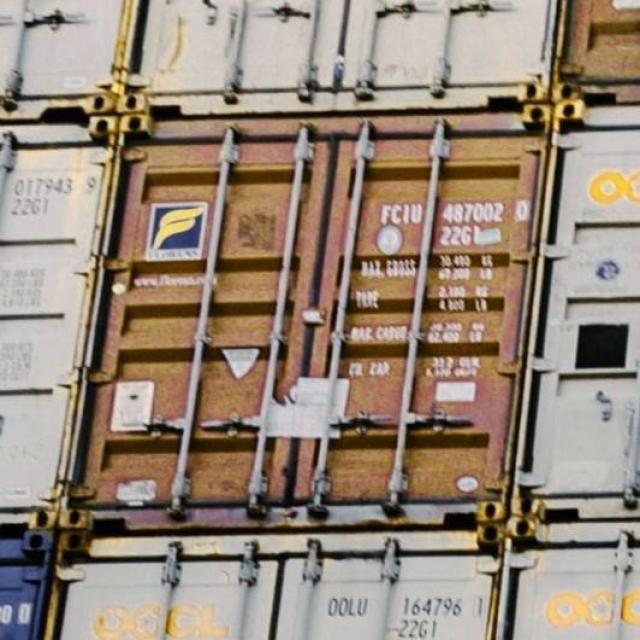ISO: (436, 226, 483, 250)
container_number: (379, 200, 531, 226)
